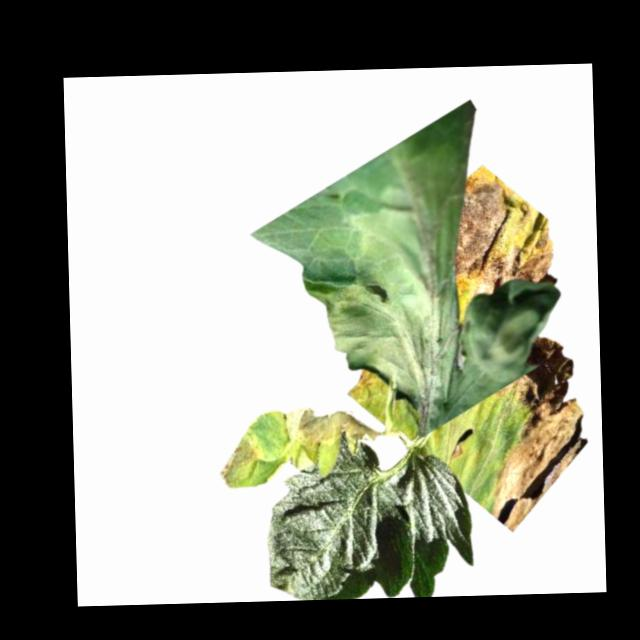healthy: (323, 154, 466, 434), (265, 440, 475, 601), (483, 334, 594, 534), (457, 163, 561, 296), (461, 279, 565, 410), (283, 405, 379, 457), (216, 432, 263, 491), (345, 365, 384, 406)
